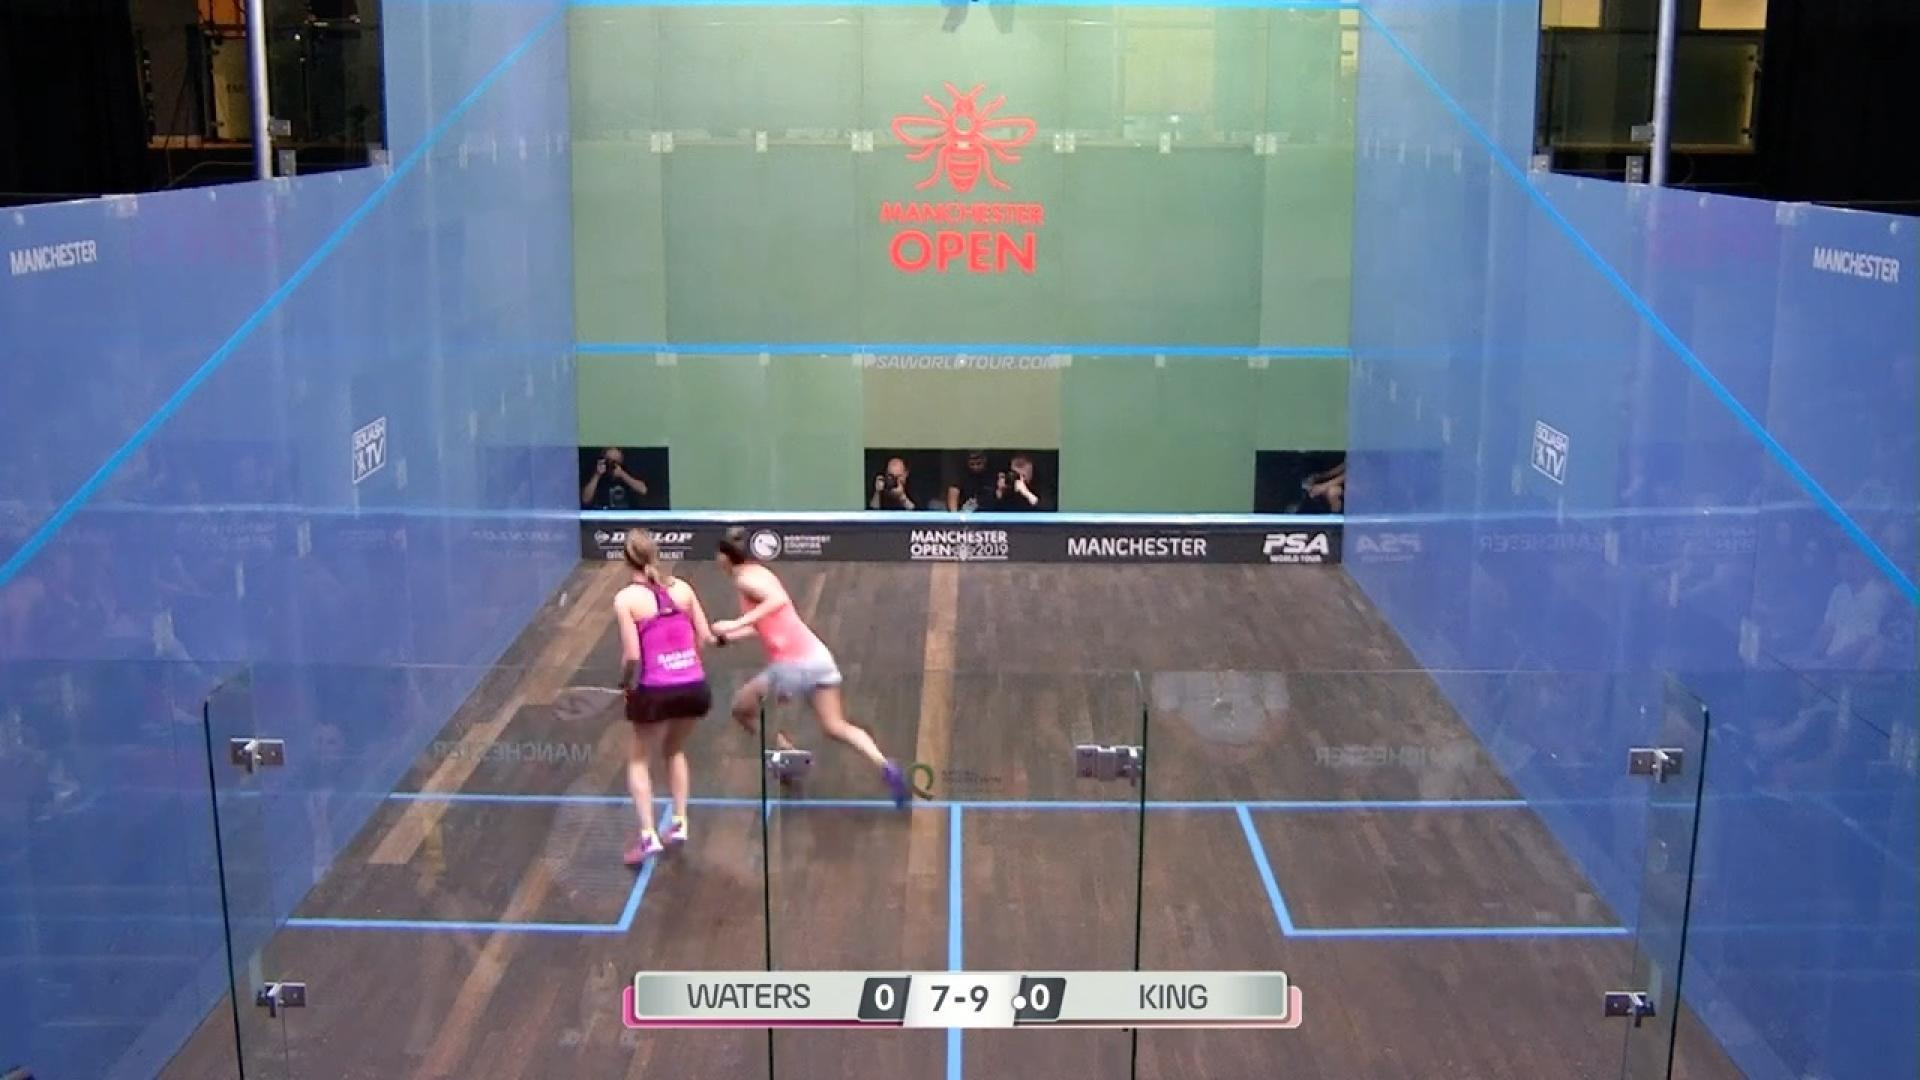Squash-Ball: (535, 583, 589, 622)
